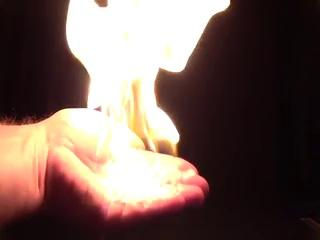Fire: (84, 1, 199, 203)
